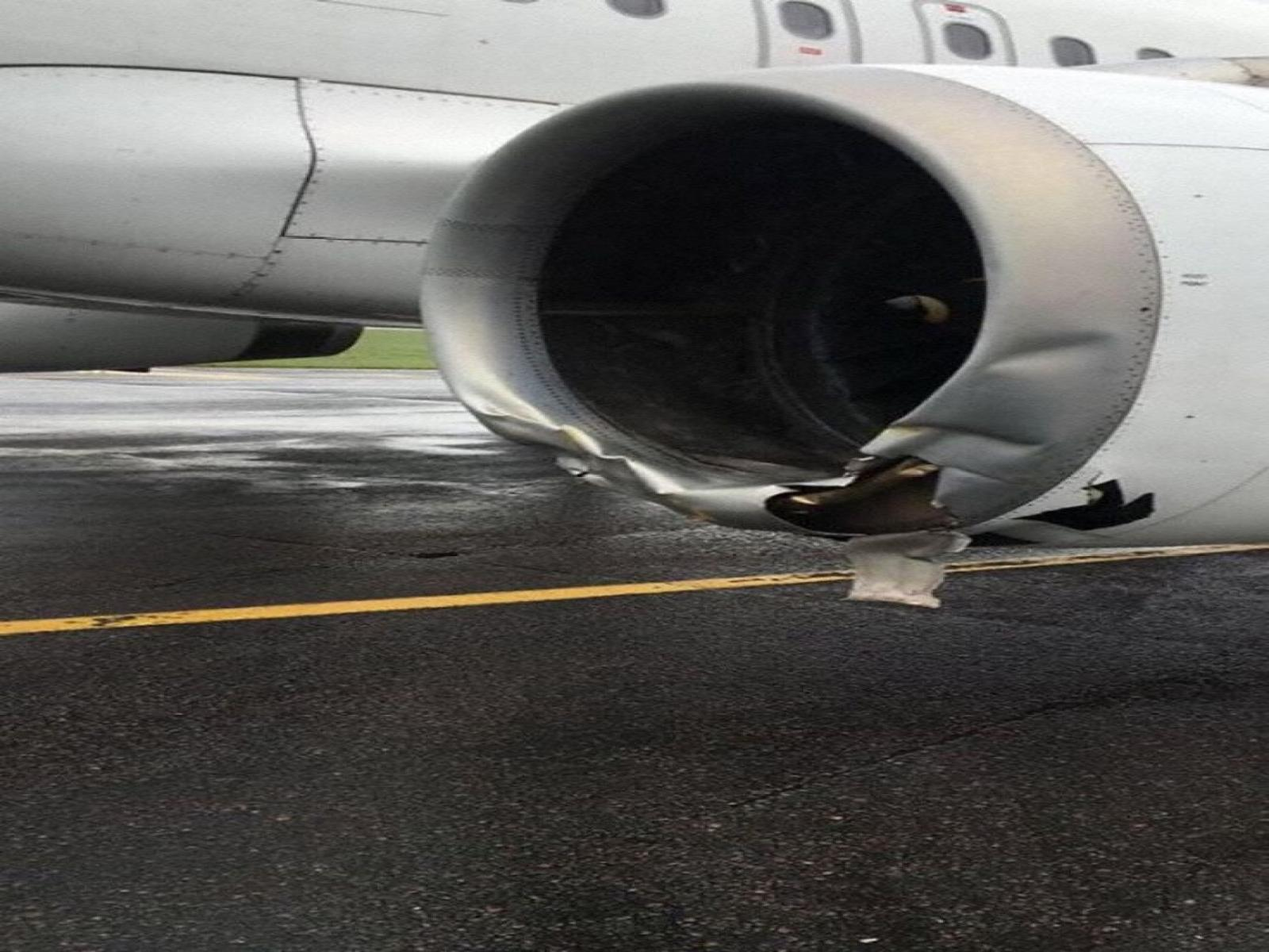Engine_damage: (872, 325, 1165, 458), (460, 407, 713, 522), (795, 462, 969, 606), (1017, 480, 1153, 532)
